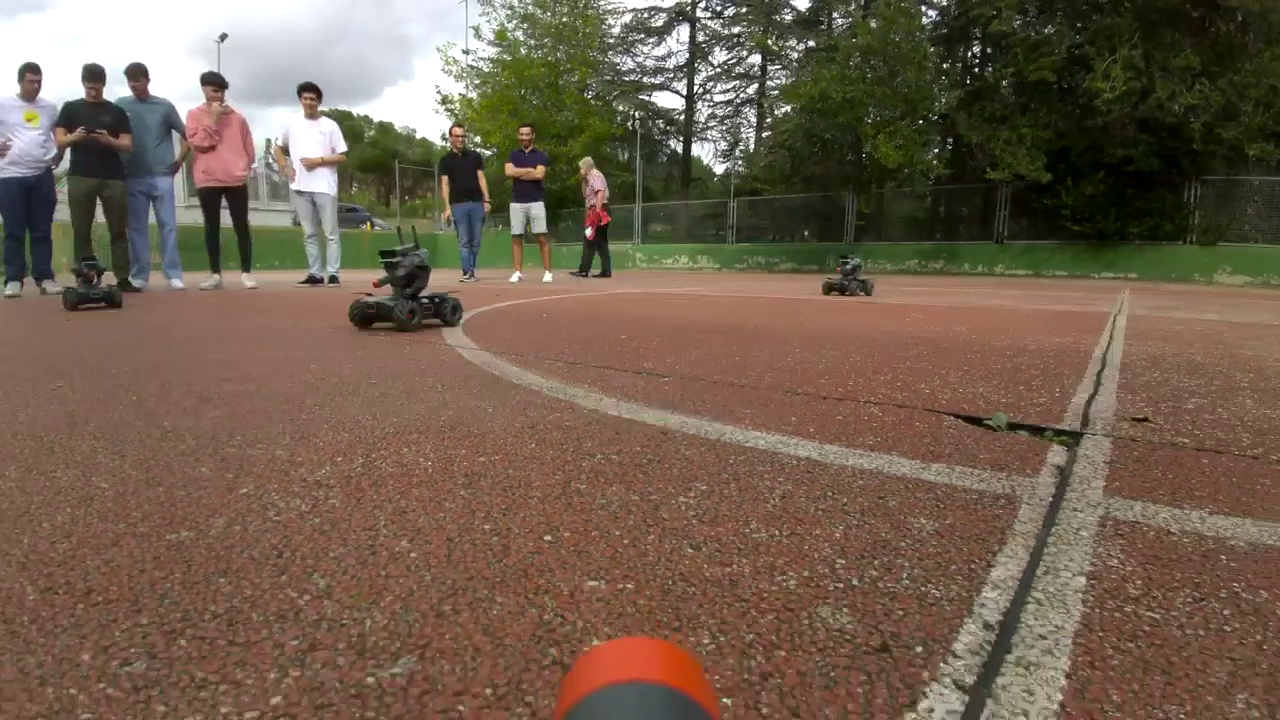robot: (349, 242, 463, 329), (64, 255, 120, 310), (821, 253, 871, 294)
